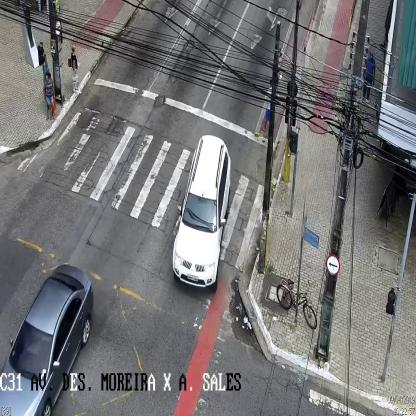bicycle: (277, 277, 317, 328)
car: (172, 135, 231, 287)
person: (43, 72, 56, 123), (362, 53, 375, 101), (68, 46, 80, 94)
